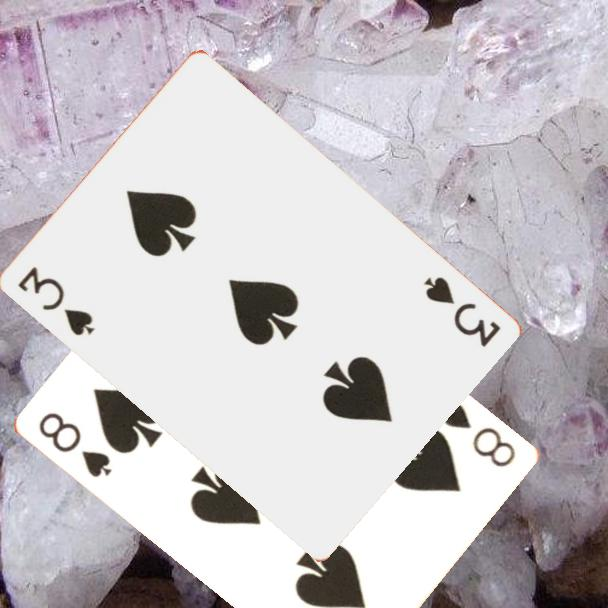s03: (419, 273, 503, 351), (13, 263, 98, 339)
s08: (438, 398, 520, 471), (35, 408, 116, 481)
